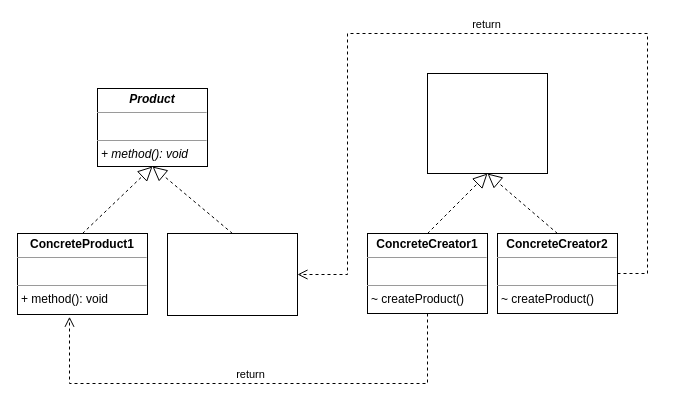
Some shapes in this 675 by 411 pixel diagram are drawn without their labels. The shapes that lost their labels are listed below. From the top down, each one's box as (x1, y1, x2, y2) in pixels, then its label:
(426, 72, 548, 174): Creator ~ createProduct() + method(): void
(166, 232, 298, 316): ConcreteProduct2 + method(): void
